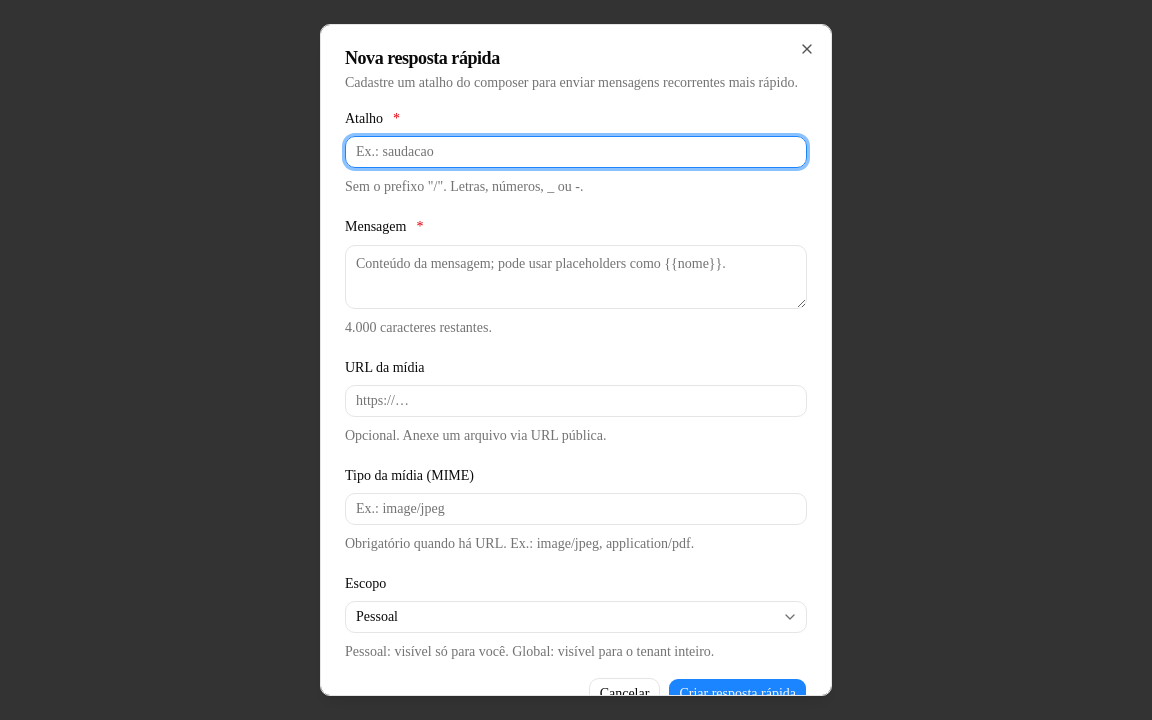
Test: QuickReplyDialog › mostra mensagem inline distinta para 409 atalho duplicado
Type "saudacao" into the field labelled "Atalho *".
click(576, 152); type("saudacao")  # box [345, 136, 807, 168]
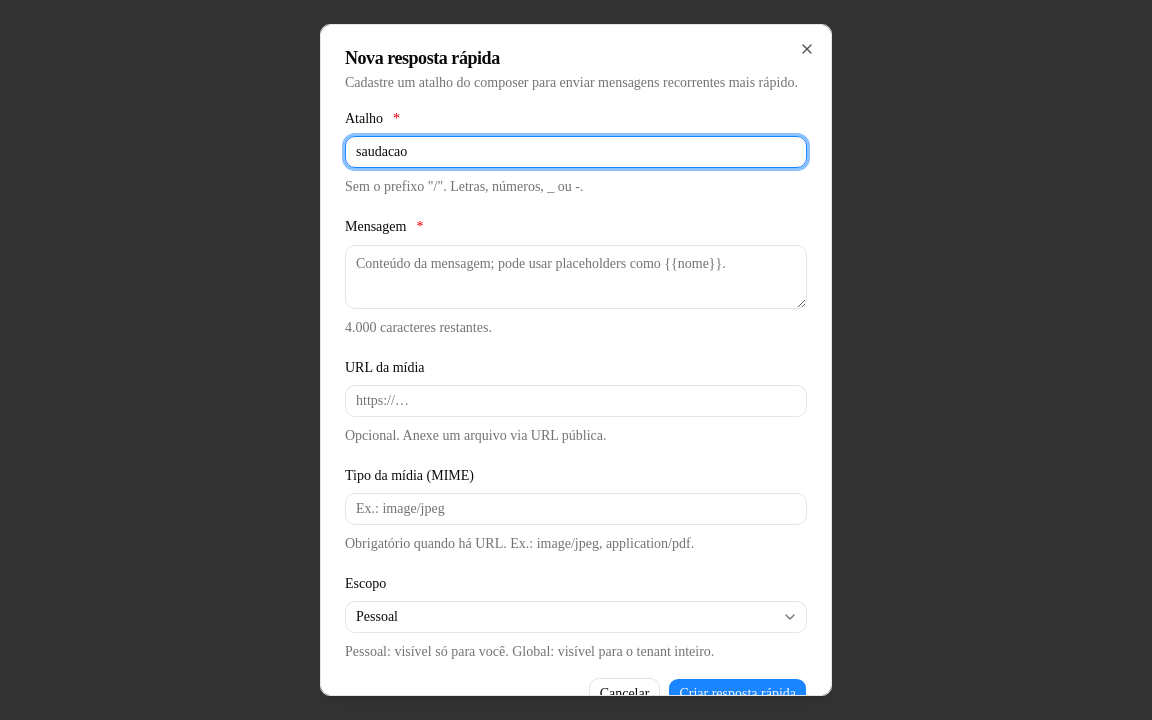
Type "oi" into the text box labelled "Mensagem *".
click(576, 276); type("oi")  # box [345, 244, 807, 308]
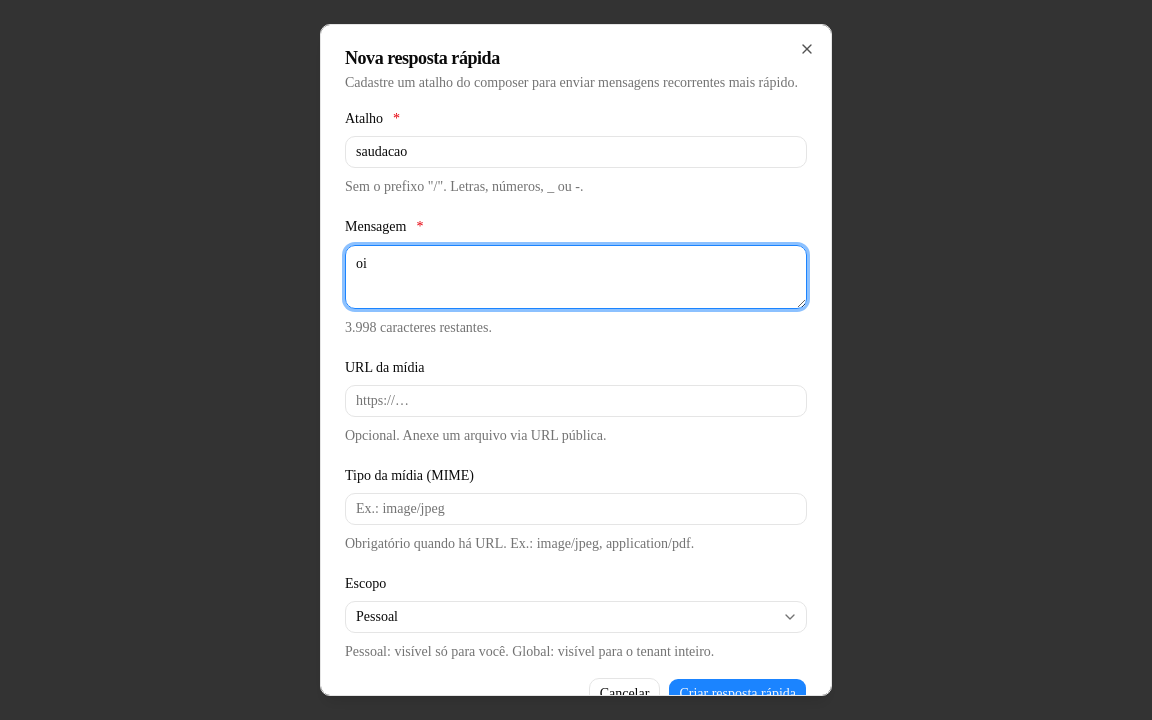
Click the button "Criar resposta rápida".
click(738, 694)  # box [668, 678, 807, 710]
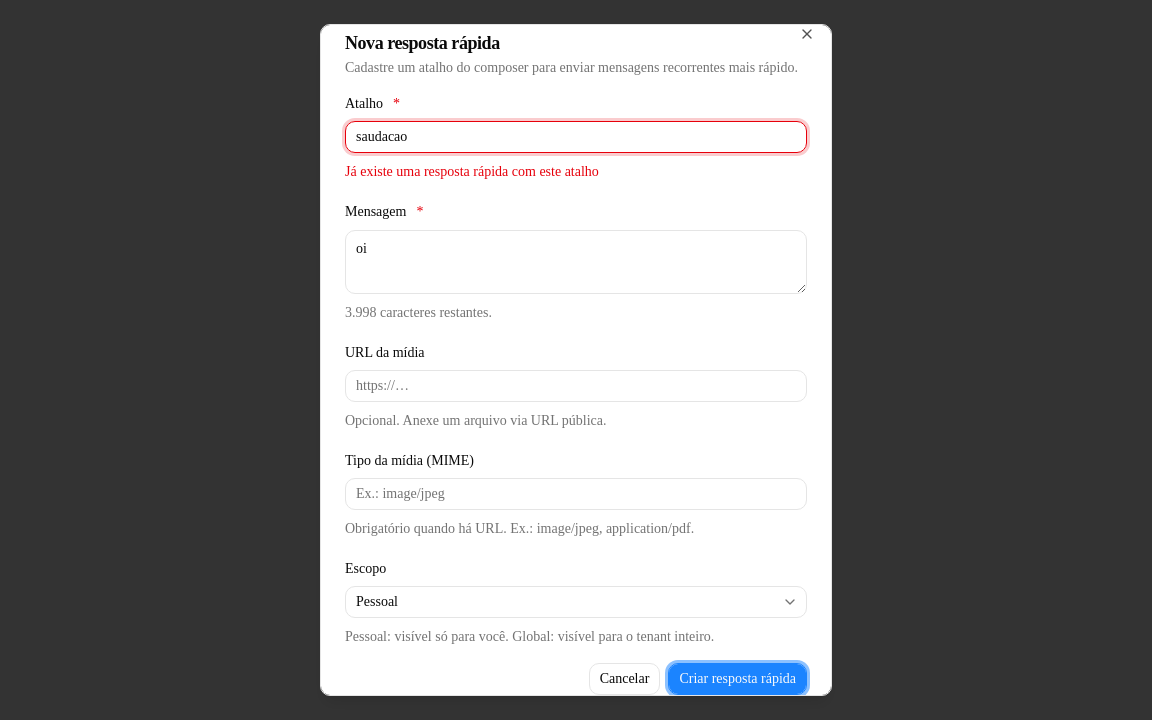
Expected: the text "Já existe uma resposta rápida com este atalho" is shown, [345, 164, 599, 179]
